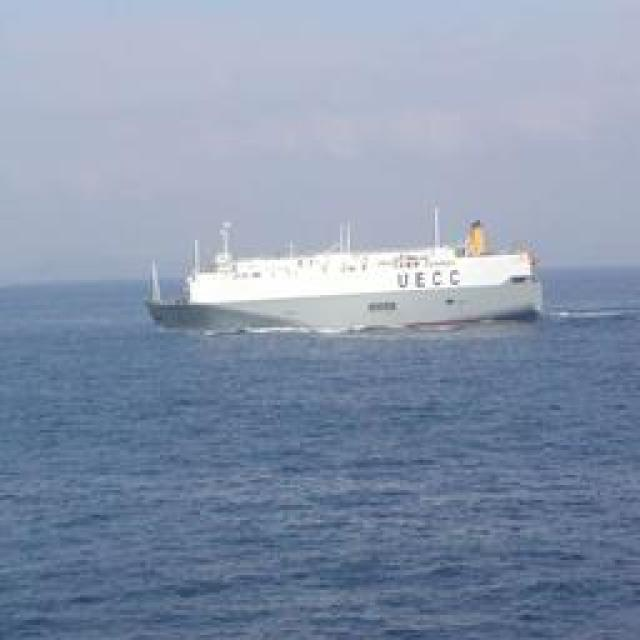ship2: (145, 199, 543, 336)
